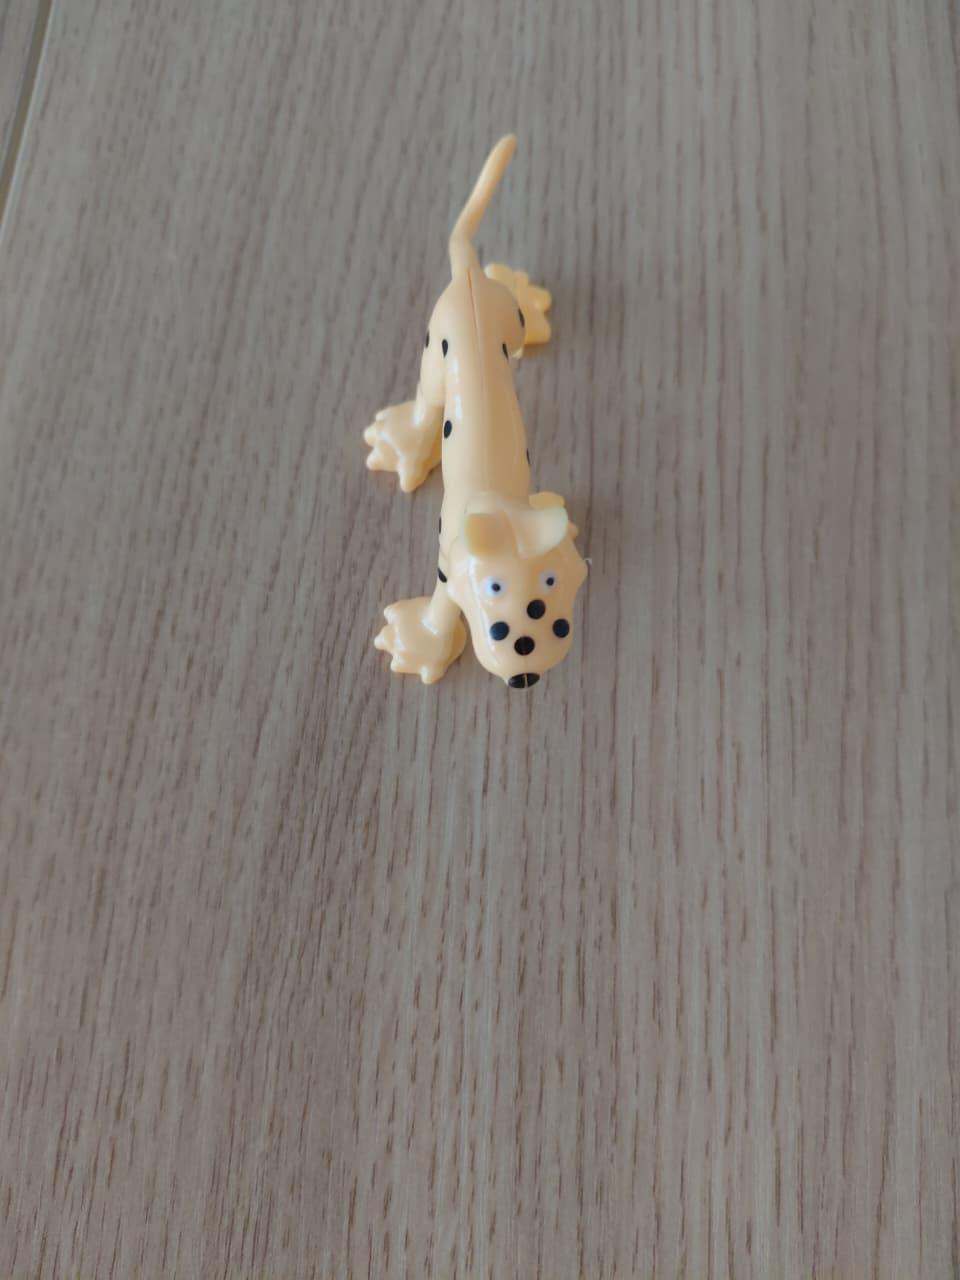cheetah: (315, 126, 742, 723)
